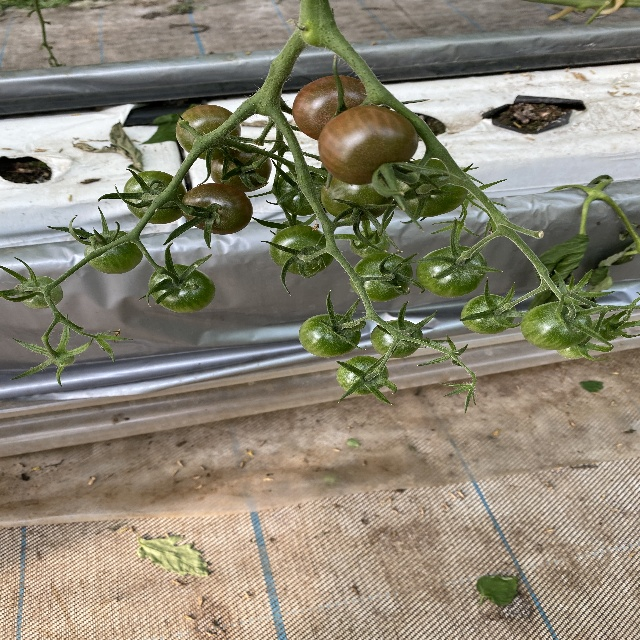l_green: (388, 158, 469, 218), (416, 244, 487, 297), (123, 170, 188, 225), (521, 301, 593, 350), (321, 172, 392, 221), (149, 265, 216, 315), (269, 225, 334, 274), (350, 253, 413, 303), (299, 314, 361, 358), (85, 230, 144, 274), (461, 293, 517, 335), (276, 170, 326, 216), (370, 319, 423, 360), (336, 355, 389, 395), (21, 276, 64, 310), (350, 231, 389, 258), (589, 318, 619, 341), (557, 340, 589, 360), (276, 220, 308, 235), (50, 352, 75, 366)
l_half_ripened: (318, 106, 419, 185), (292, 76, 383, 142), (174, 104, 242, 160), (181, 183, 253, 235), (208, 143, 273, 192)
